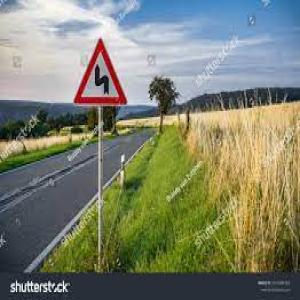bend: (73, 35, 130, 109)
